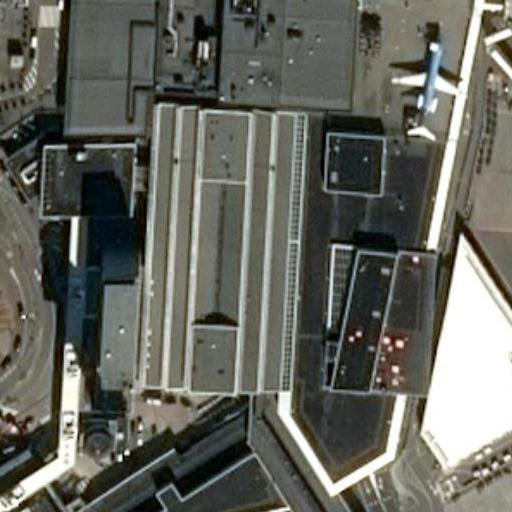Aircraft: (386, 32, 460, 140)
